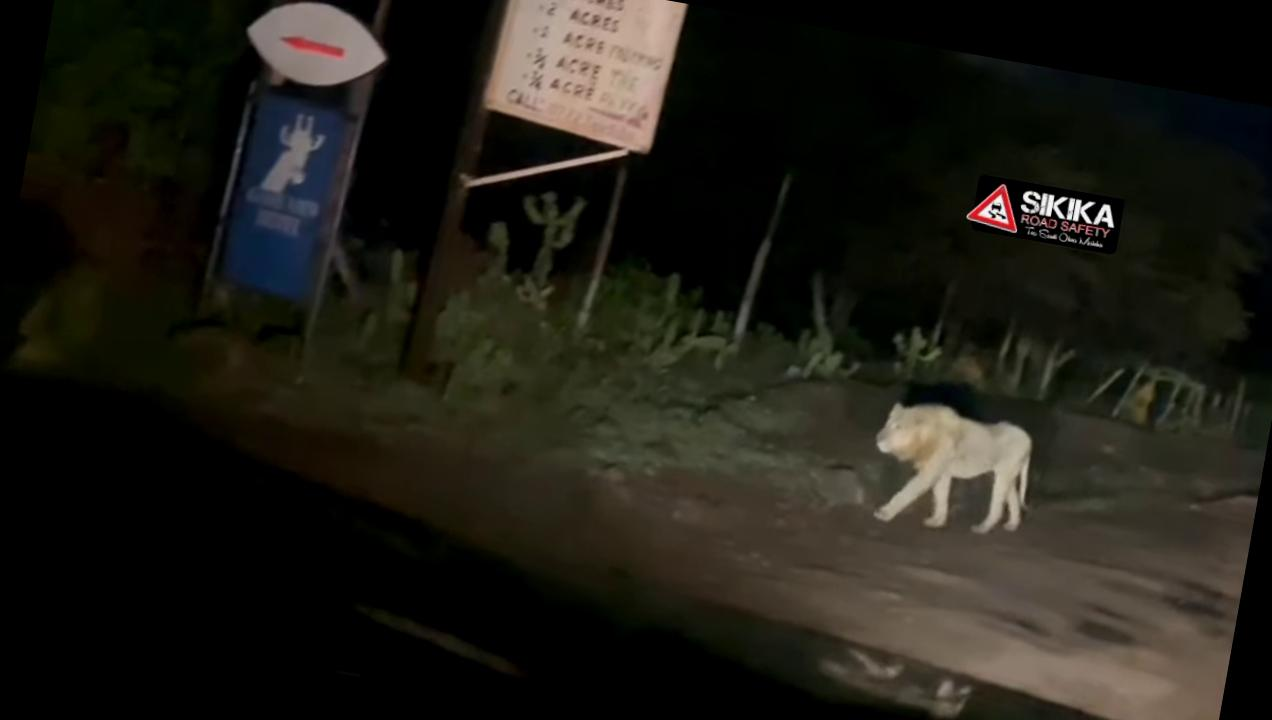lions: (850, 373, 1056, 552)
